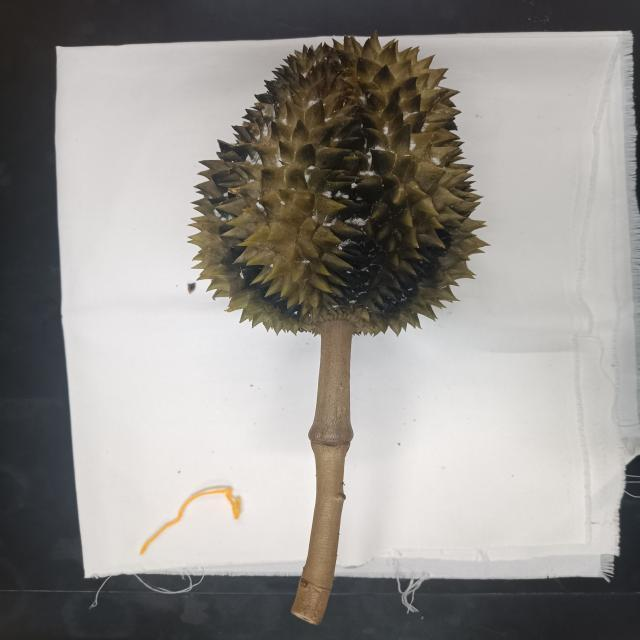defective: (190, 33, 474, 338)
